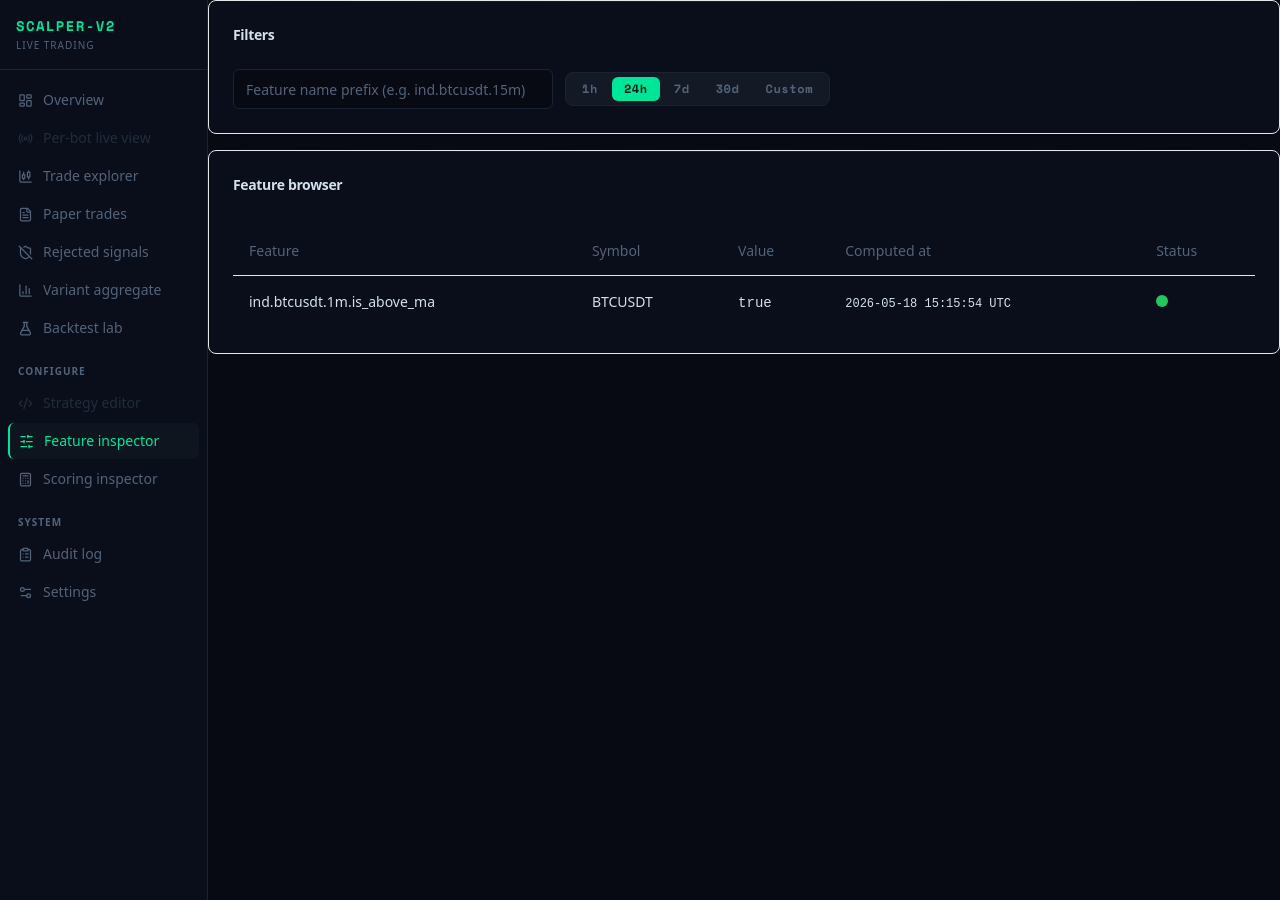
it: Features route (T-417) › non-numeric value_bool feature renders 'Not chartable' placeholder + history list
Click the text "ind.btcusdt.1m.is_above_ma" at point(404, 302), box [233,275,576,328]
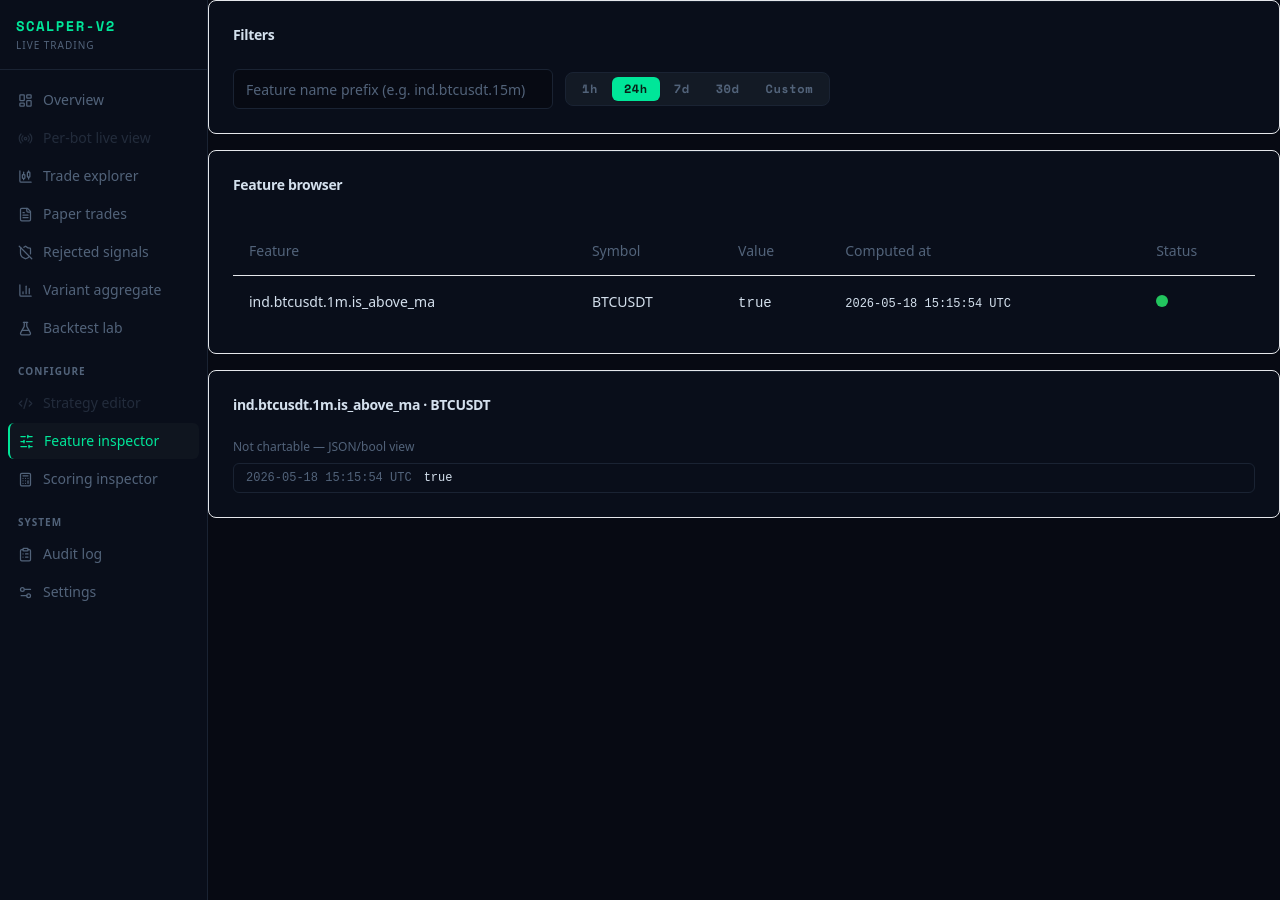
Expected: the element with test id "non-numeric-history" is shown, [233,438,1255,492]
Expected: the text "Not chartable — JSON/bool view" is shown, [233,438,414,454]
